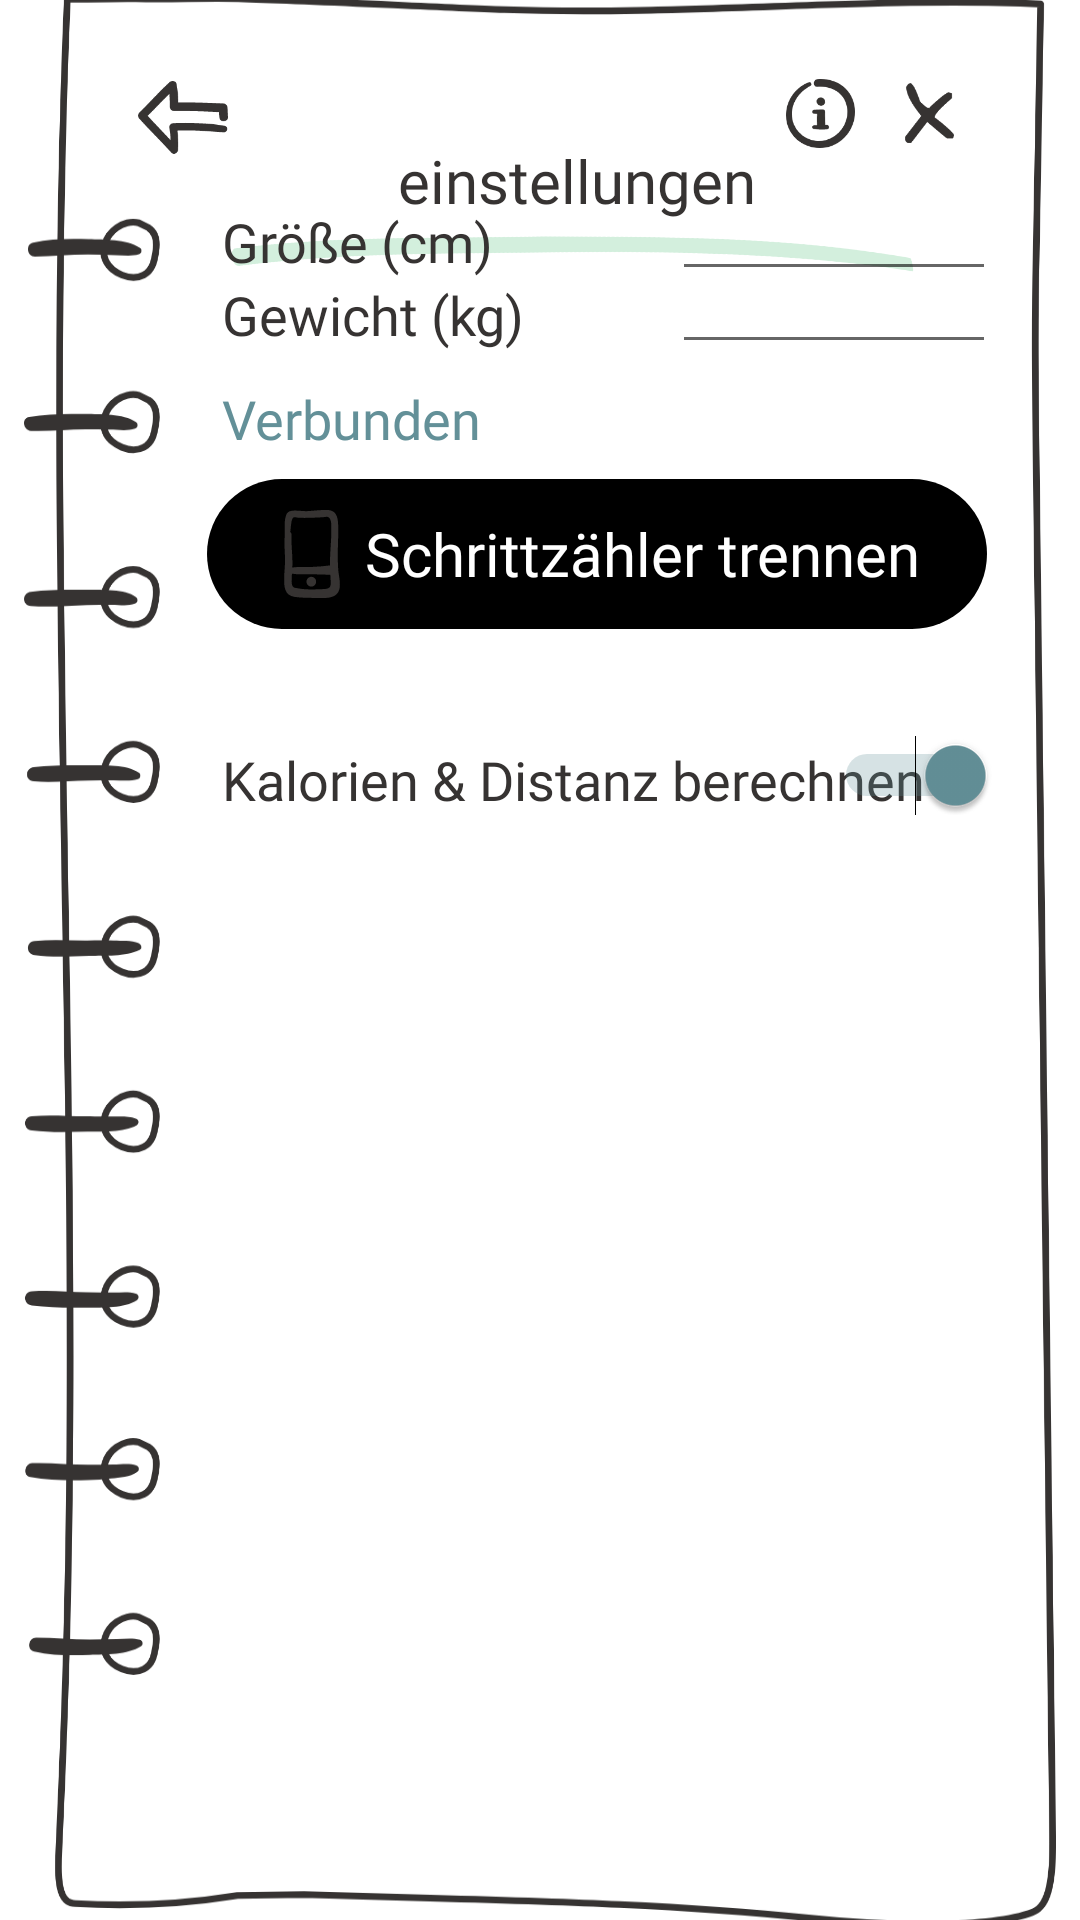

Where icons sit on this 1080 × 1920 app screen, as (x1, y1, x2, y2):
arrow: (138, 81, 228, 154)
info: (786, 79, 855, 148)
